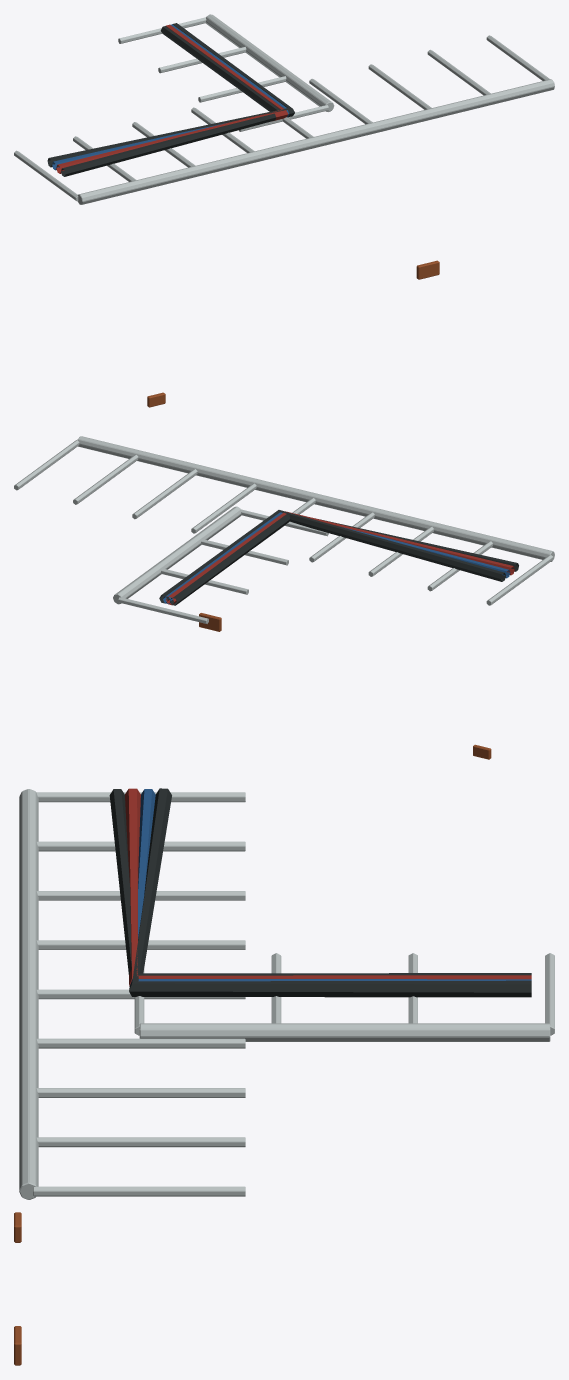
File: runtime.glb
The picture shows the model from 3 angles, top to bottom: view 1: azimuth 30°, elevation 25°; view 2: azimuth 150°, elevation 25°; view 3: azimuth 270°, elevation 25°; orthographic projection. The views are drawn at different scales.
Visible parts, largest first — view 1: reactor-cable-tray-v05_nocol; view 2: reactor-cable-tray-v05_nocol; view 3: reactor-cable-tray-v05_nocol.
Part boxes in pixels (x1,y1,x2,y2): reactor-cable-tray-v05_nocol: (14,14,554,407); reactor-cable-tray-v05_nocol: (14,436,554,759); reactor-cable-tray-v05_nocol: (14,788,554,1365).
Size of the model in its own units: 4.26 by 1.97 by 2.45.
